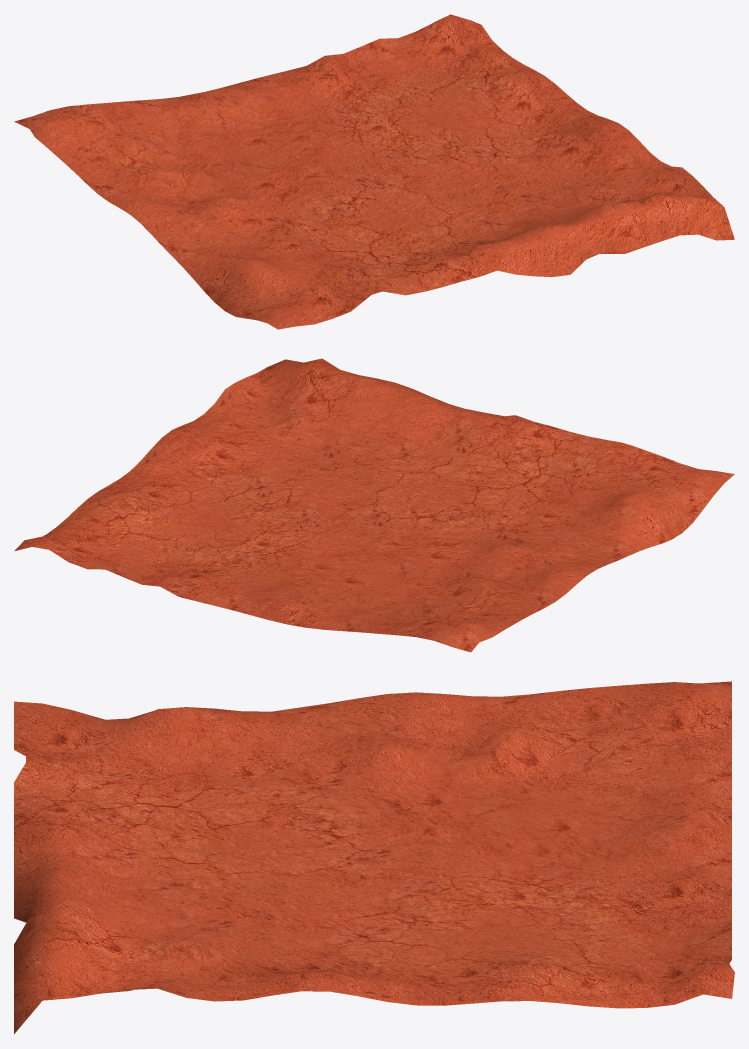
Rendered from terrain.dae.
3 views of the same model, one above another, from view 1: azimuth 30°, elevation 25°; view 2: azimuth 150°, elevation 25°; view 3: azimuth 270°, elevation 25° (orthographic). The views are drawn at different scales.
Parts seen in each view (by area): view 1: Terrain.1; view 2: Terrain.1; view 3: Terrain.1.
Part boxes in pixels (left/top/right/bottom): Terrain.1: left=14, top=14, right=734, bottom=329; Terrain.1: left=14, top=358, right=734, bottom=652; Terrain.1: left=14, top=681, right=734, bottom=1033.
Bounding box in the file's own units: 200 × 19.65 × 201.
Materials: 1 (1 with a texture image).
